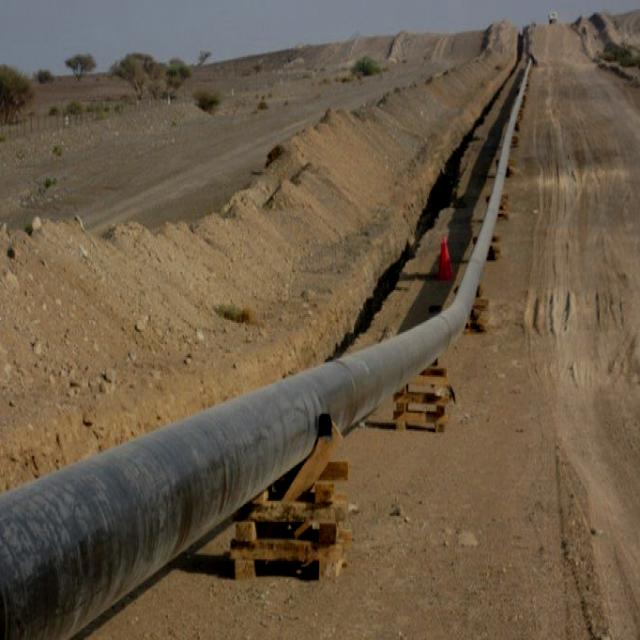gas: (0, 62, 531, 640)
